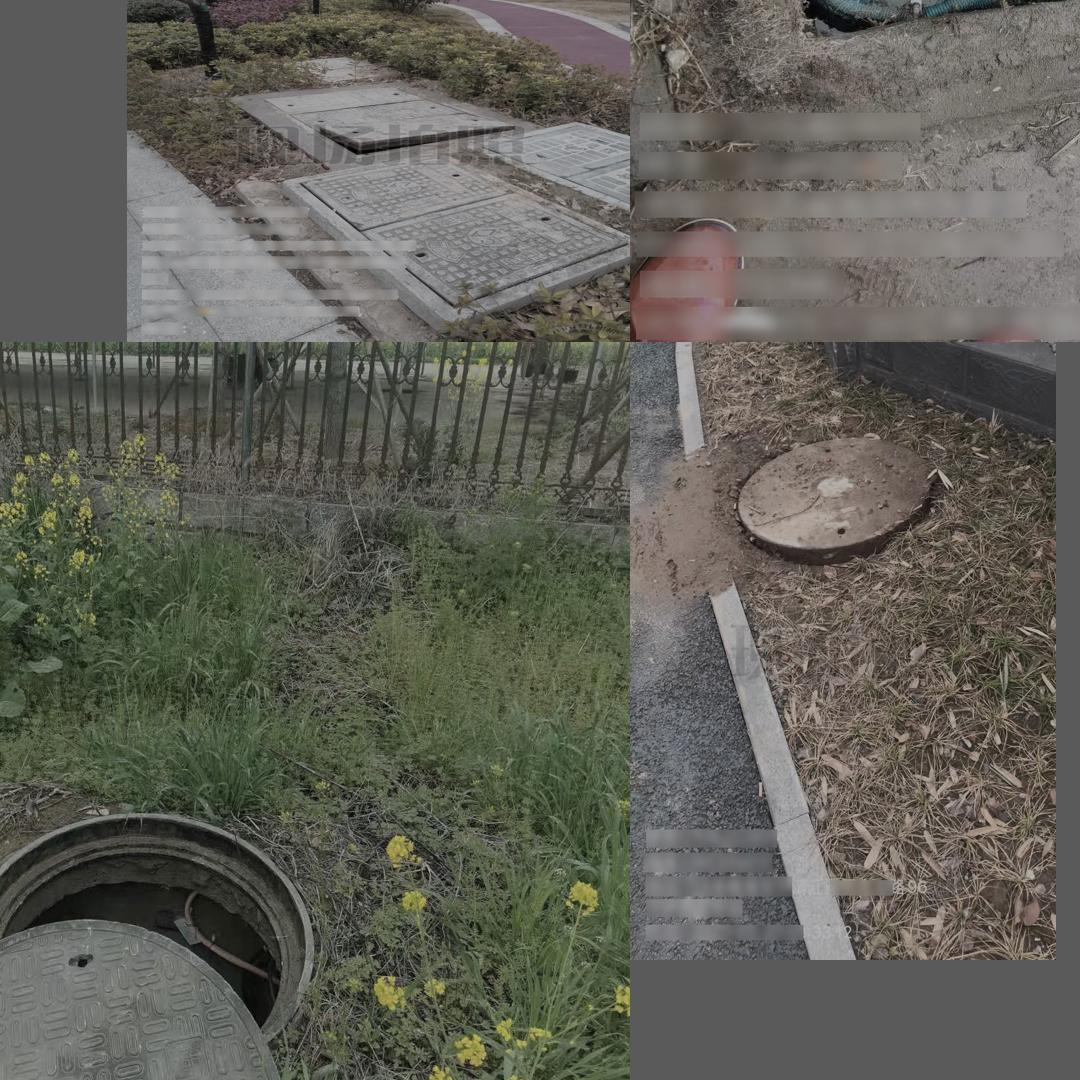good: (280, 151, 630, 331), (469, 121, 630, 211)
uncovered: (0, 799, 338, 1080), (636, 0, 1080, 136), (736, 437, 932, 568), (260, 84, 521, 158)
